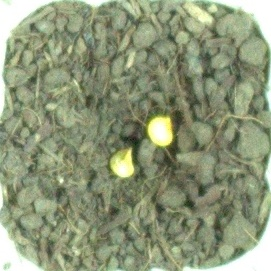chilli seed: (105, 145, 137, 179), (146, 116, 174, 148)
